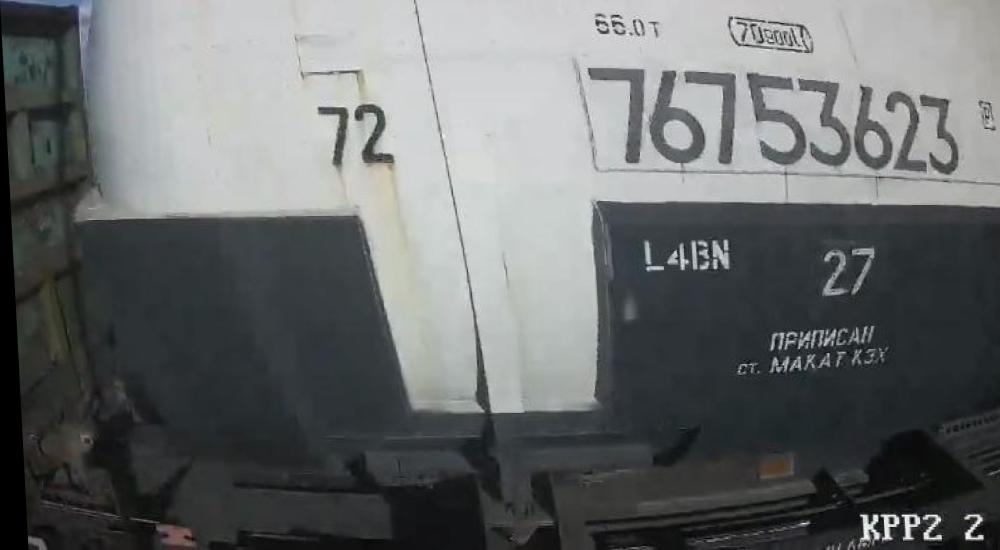Wagon-number: (577, 63, 967, 184)
